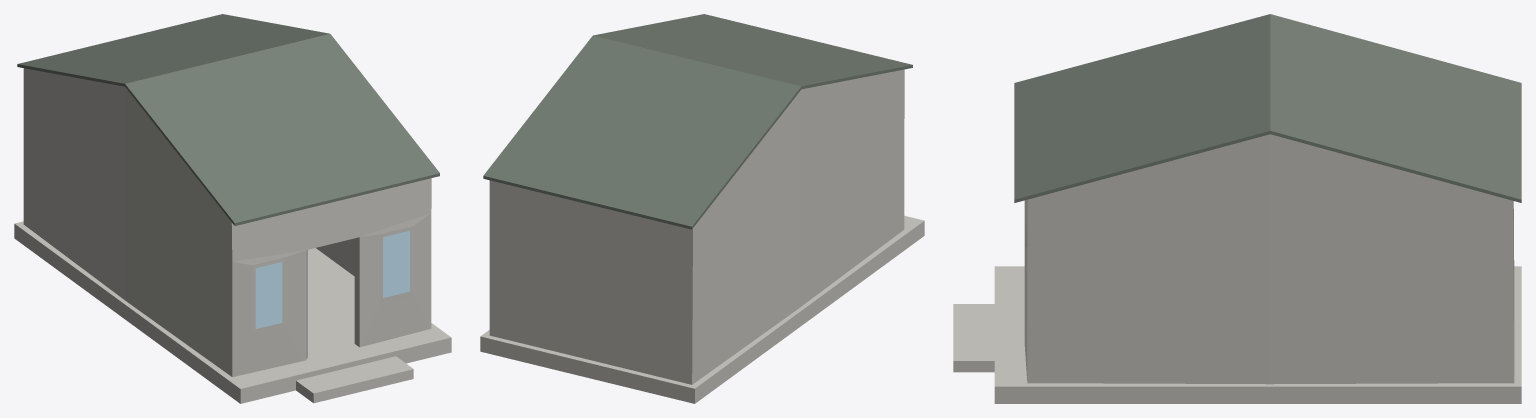
The model's file is REMAKE_turbina_5.fbx.
The picture shows the model from 3 angles, left to right: view 1: azimuth 30°, elevation 25°; view 2: azimuth 150°, elevation 25°; view 3: azimuth 270°, elevation 25°; orthographic projection. The views are drawn at different scales.
Visible parts, largest first — view 1: pantry.001; view 2: pantry.001; view 3: pantry.001.
Boxes of the visible parts, left/top/right/bottom form: pantry.001: left=14, top=14, right=451, bottom=403; pantry.001: left=480, top=14, right=924, bottom=403; pantry.001: left=953, top=14, right=1521, bottom=403.
Bounding box in the file's own units: 400 × 422 × 800.
